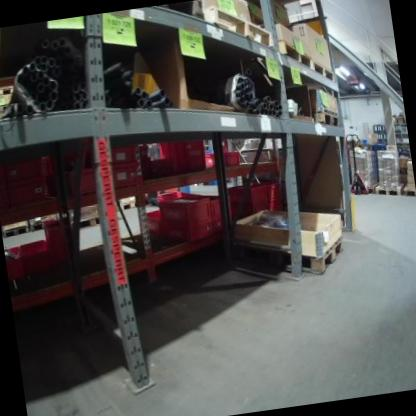pallet: (236, 230, 349, 284), (184, 0, 277, 60), (273, 33, 314, 77), (308, 107, 341, 132), (312, 54, 337, 86), (373, 181, 405, 198), (402, 181, 416, 198)
pallet_truck: (342, 130, 374, 198)
small_load_carrier: (63, 161, 143, 201), (156, 136, 210, 180), (154, 187, 211, 221), (3, 152, 55, 183), (165, 214, 215, 243), (20, 234, 56, 274), (5, 178, 54, 207), (44, 219, 73, 266), (225, 179, 271, 205), (209, 192, 237, 234), (94, 140, 139, 165), (135, 207, 165, 242), (141, 155, 172, 186), (202, 147, 243, 169), (233, 199, 272, 220), (4, 244, 26, 281), (261, 177, 284, 200), (266, 195, 287, 213)
